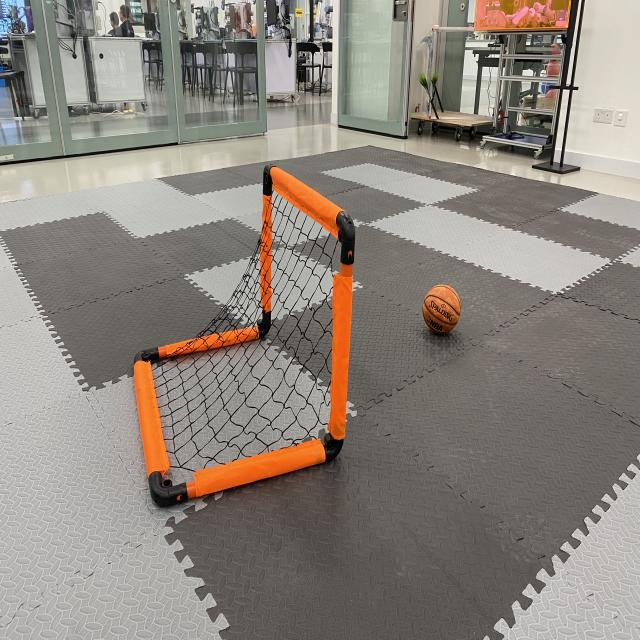ball: (420, 280, 464, 340)
gate: (129, 159, 361, 515)
